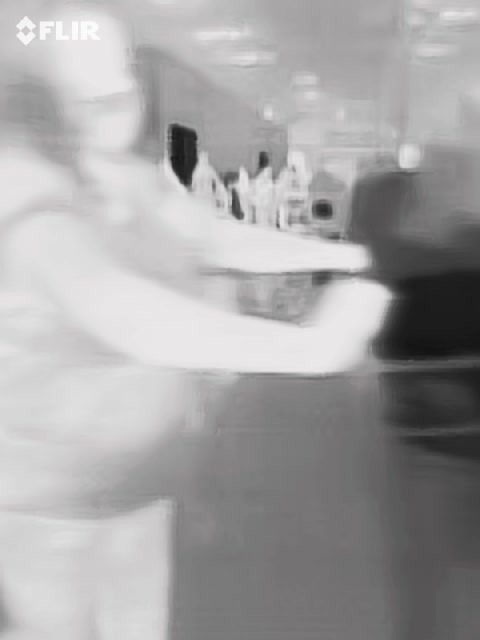head: (1, 5, 144, 153)
